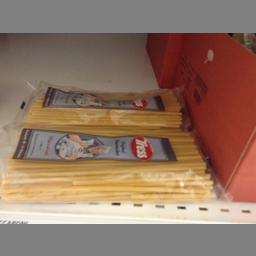pasta: (0, 122, 219, 204), (15, 78, 191, 126)
